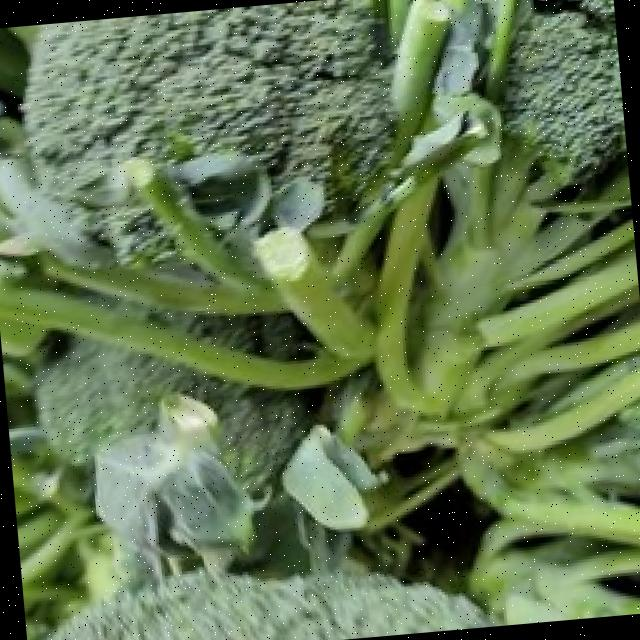Broccoli: (24, 0, 391, 199), (24, 0, 391, 199), (36, 338, 312, 493), (36, 338, 312, 493), (49, 570, 489, 640), (55, 570, 489, 640), (504, 9, 625, 174), (504, 11, 625, 176), (186, 314, 311, 357), (185, 313, 310, 356), (82, 206, 172, 258), (82, 206, 172, 258)
